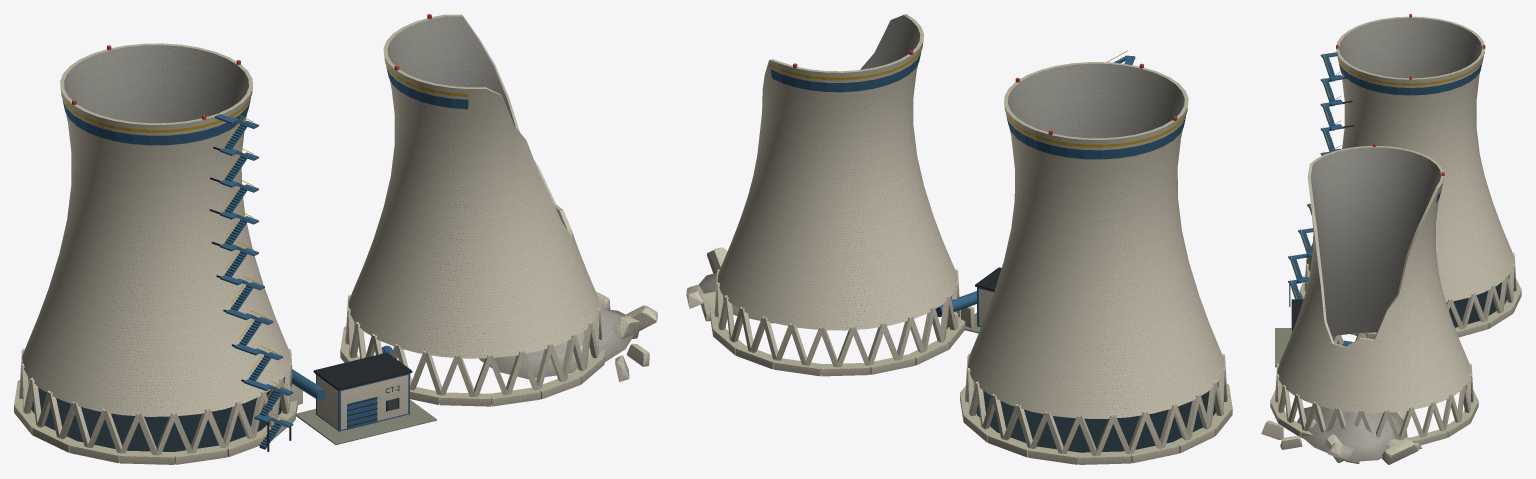
The model's file is landmark_cooling_towers.glb.
The picture shows the model from 3 angles, left to right: view 1: azimuth 30°, elevation 25°; view 2: azimuth 150°, elevation 25°; view 3: azimuth 270°, elevation 25°; orthographic projection. The views are drawn at different scales.
Visible parts, largest first — view 1: landmark_cooling_towers; view 2: landmark_cooling_towers; view 3: landmark_cooling_towers.
Part boxes in pixels (box(x1,y1,x2,y2)): landmark_cooling_towers: box(14, 14, 657, 464); landmark_cooling_towers: box(686, 14, 1232, 464); landmark_cooling_towers: box(1261, 14, 1521, 464).
Size of what is drawn, in the model's own units: 114 by 63.42 by 57.55.
11 materials, 11 textured.
